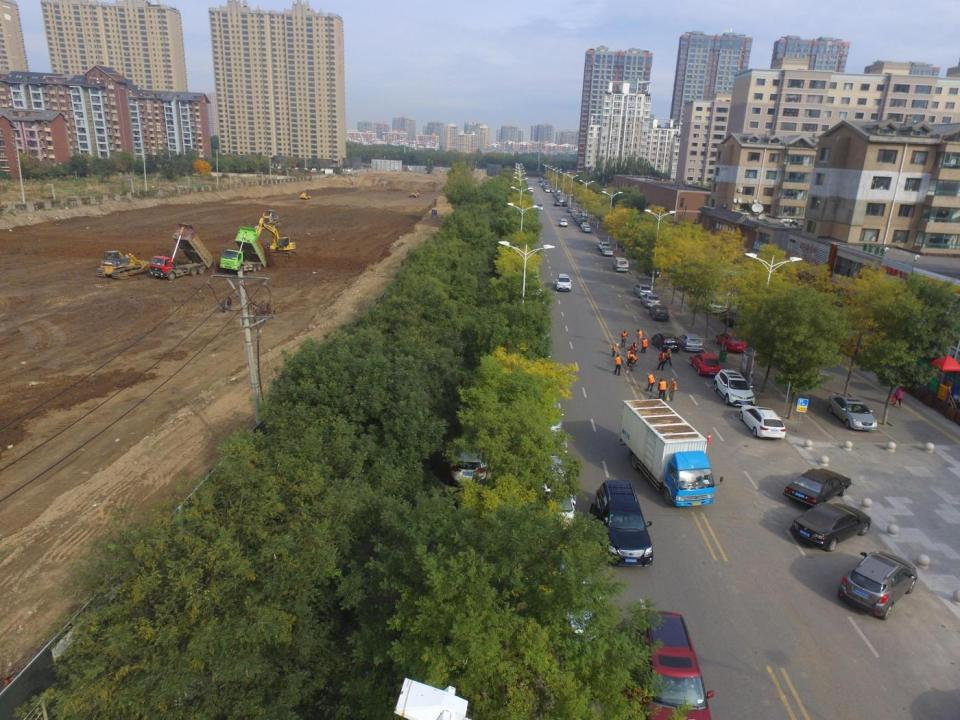car: (622, 609, 718, 720), (587, 480, 654, 567), (836, 550, 916, 620), (559, 550, 612, 646), (790, 502, 871, 552), (529, 450, 576, 529), (781, 468, 852, 510), (447, 438, 489, 484), (828, 393, 878, 431), (740, 405, 785, 440), (714, 370, 756, 407), (528, 399, 564, 440), (689, 352, 722, 376), (716, 331, 747, 353), (720, 309, 748, 329), (651, 334, 679, 352), (678, 333, 704, 352), (649, 305, 669, 322), (708, 299, 728, 315), (640, 294, 661, 308), (555, 274, 572, 291), (634, 284, 652, 299), (648, 263, 661, 277), (598, 241, 611, 252), (602, 247, 612, 256), (558, 218, 567, 227), (527, 187, 534, 194)
truck: (618, 398, 716, 507), (147, 224, 212, 280), (220, 228, 265, 272)
van: (613, 258, 630, 274), (537, 203, 544, 212)
